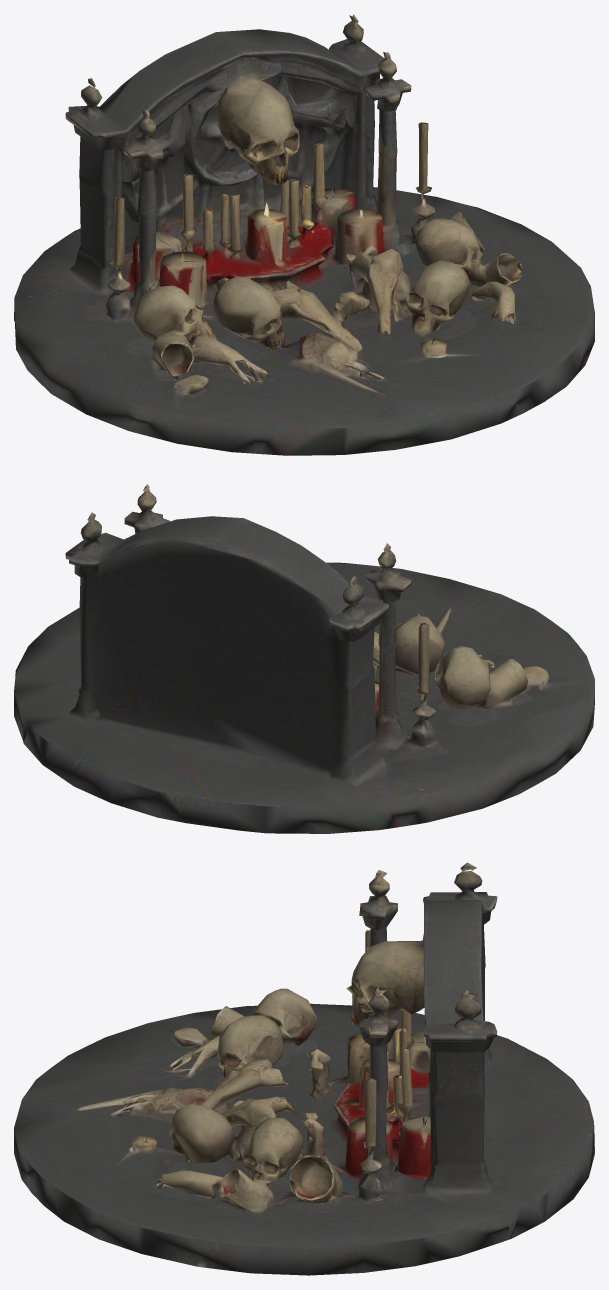
The model's file is ossuary.glb.
3 renders of one model, top to bottom at view 1: azimuth 30°, elevation 25°; view 2: azimuth 150°, elevation 25°; view 3: azimuth 270°, elevation 25°, orthographic.
Visible parts, largest first — view 1: Mesh_0; view 2: Mesh_0; view 3: Mesh_0.
Boxes of the visible parts, bbox=[...] form: Mesh_0: bbox=[14, 14, 594, 455]; Mesh_0: bbox=[14, 484, 594, 833]; Mesh_0: bbox=[14, 862, 594, 1275].
Bounding box in the file's own units: 1.9 × 0.853 × 1.9.
Materials: 1 (1 with a texture image).
